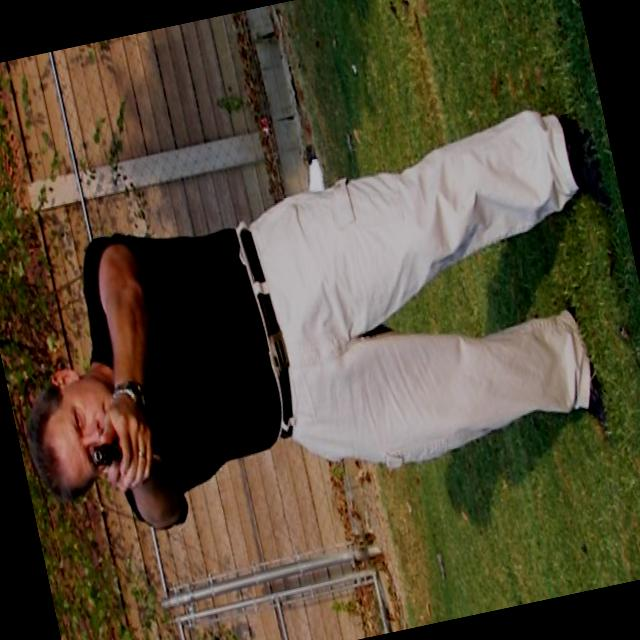handgun: (88, 435, 125, 473)
